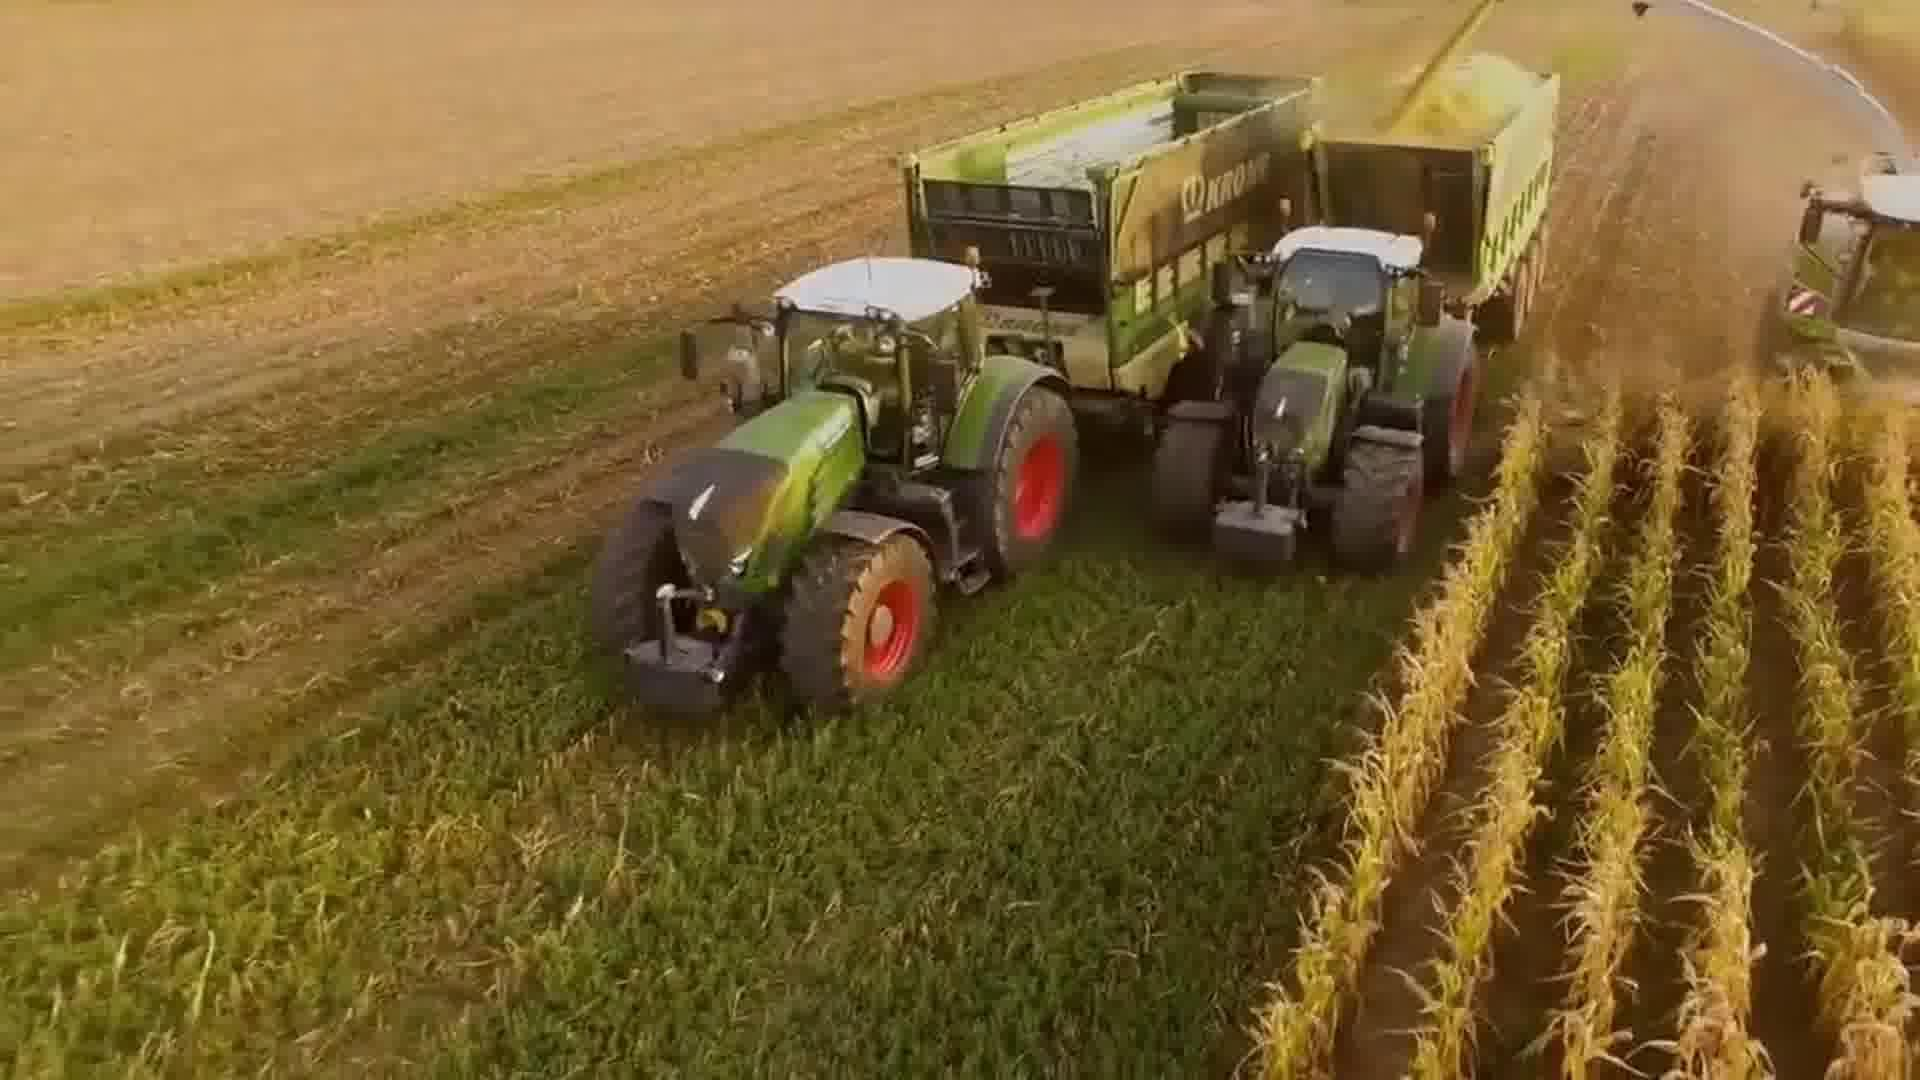combine harvester: (1622, 0, 1920, 444)
tractor: (584, 244, 1087, 736), (1153, 196, 1493, 586)
trailer: (893, 60, 1333, 404), (1270, 51, 1571, 350)
